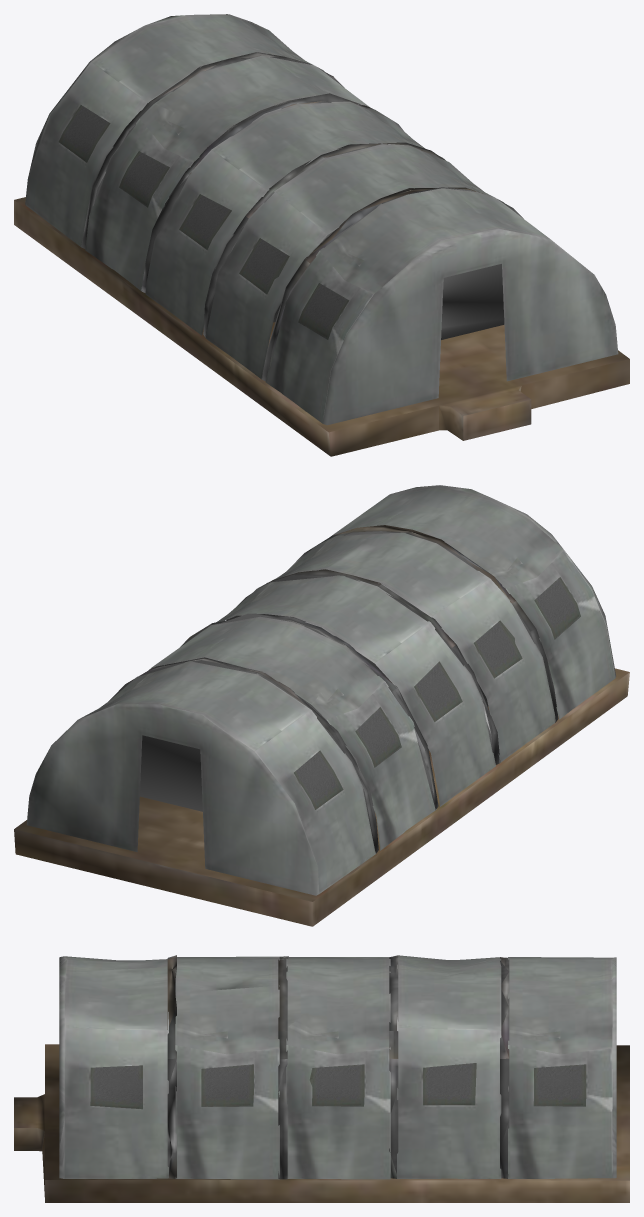
The model's file is wl_mil_tent_b.glb.
3 renders of one model, top to bottom at view 1: azimuth 30°, elevation 25°; view 2: azimuth 150°, elevation 25°; view 3: azimuth 270°, elevation 25°, orthographic. The views are drawn at different scales.
Parts seen in each view (by area): view 1: wl_mil_tent_b; view 2: wl_mil_tent_b; view 3: wl_mil_tent_b.
Part boxes in pixels (x1,y1,x2,y2): wl_mil_tent_b: (14,14,629,456); wl_mil_tent_b: (14,485,629,926); wl_mil_tent_b: (14,955,629,1202).
Bounding box in the file's own units: 7.6 × 4.32 × 14.51.
Materials: 1 (1 with a texture image).
